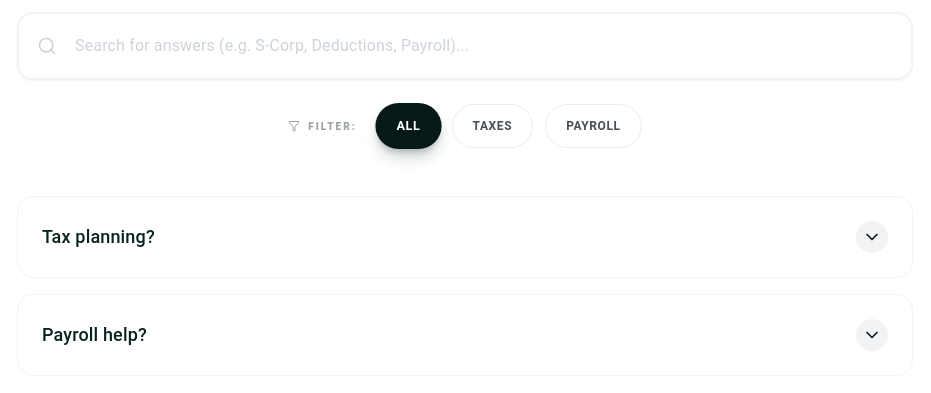
Test case: FAQList filtering › searches rich-text answers and exposes a named clear action
Type "compliance" into the search field named "Search answers" at (465, 46), box [17,12,913,80]
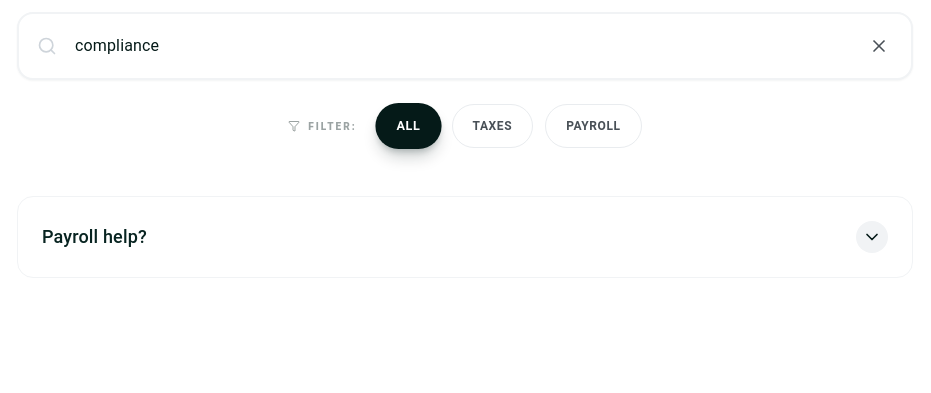
Check: the button "Payroll help?" is shown, box [18,197,912,277]
Click the button named "Clear search" at (879, 46), box [857,12,901,80]
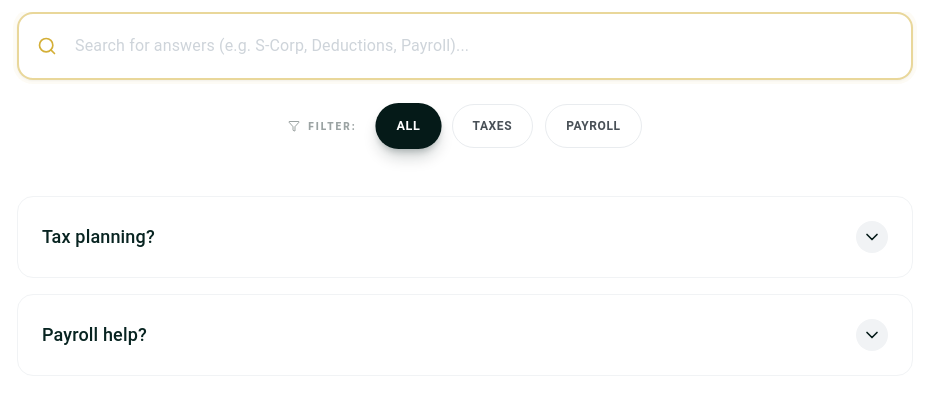
Check: the search field is empty, box [17,12,913,80]
